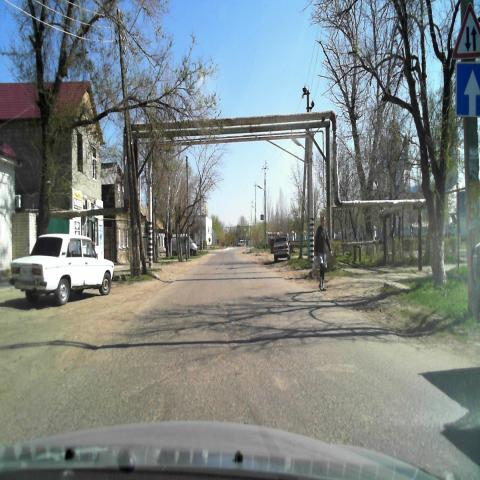1_21: (451, 2, 480, 58)
